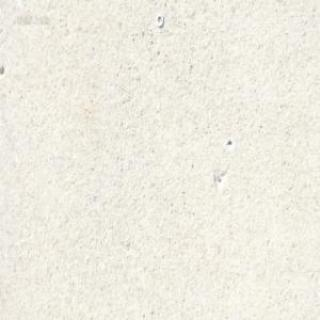Washertrack_idkeyframe: (155, 12, 163, 27)
